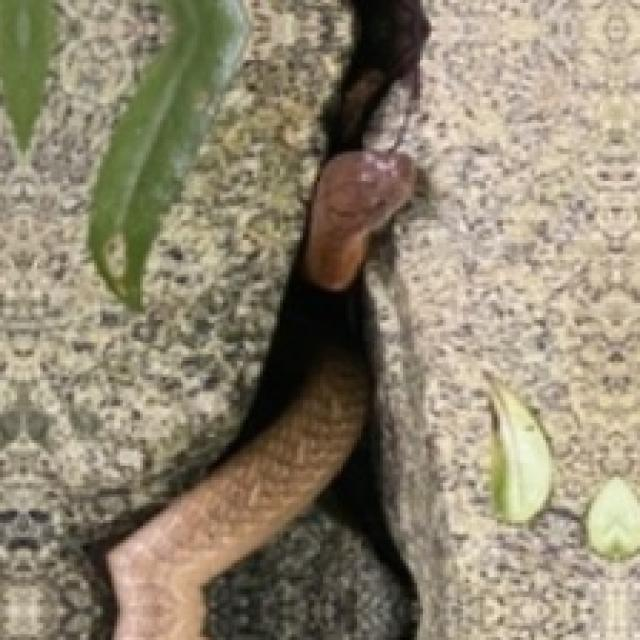king cobra: (0, 0, 349, 637), (209, 460, 411, 637)
